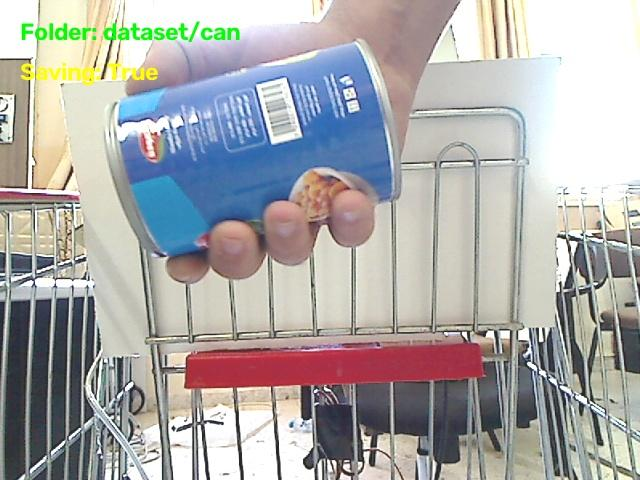can: (105, 40, 400, 255)
